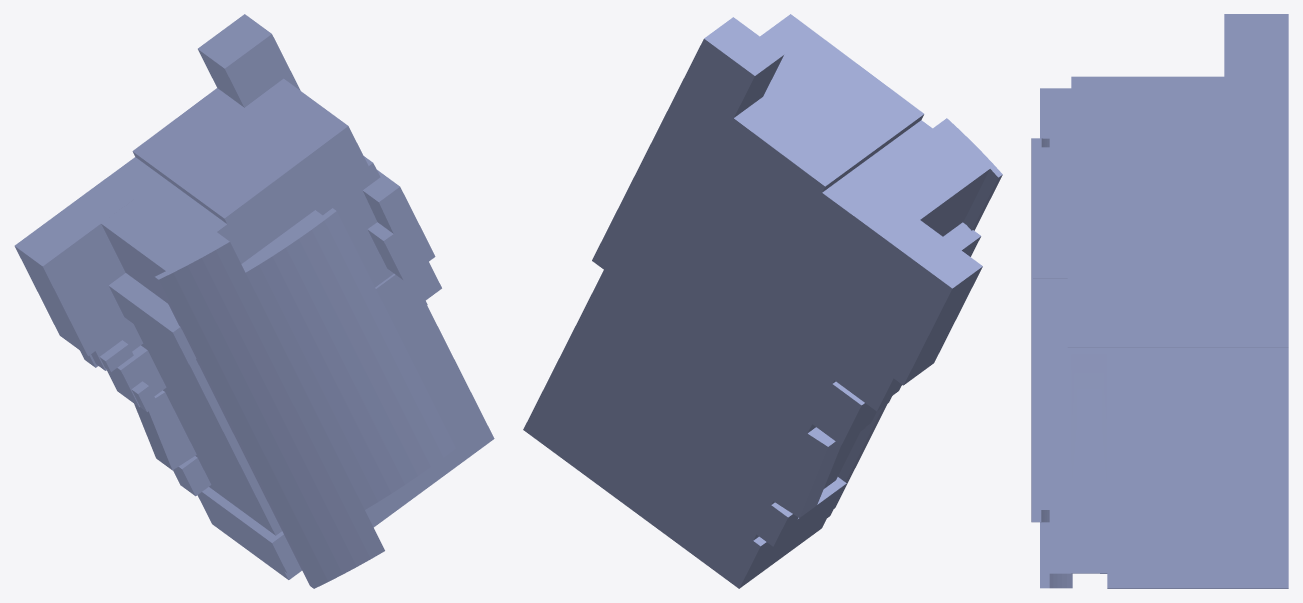
The picture shows the model from 3 angles, left to right: view 1: azimuth 30°, elevation 25°; view 2: azimuth 150°, elevation 25°; view 3: azimuth 270°, elevation 25°; orthographic projection. The views are drawn at different scales.
Parts seen in each view (by area): view 1: E8; view 2: E8; view 3: E8.
Boxes of the visible parts, x1=… form: E8: x1=14, y1=14, x2=494, y2=588; E8: x1=523, y1=14, x2=1002, y2=588; E8: x1=1031, y1=14, x2=1288, y2=588.
Size of the model in its own units: 65.89 by 79.45 by 31.24.
